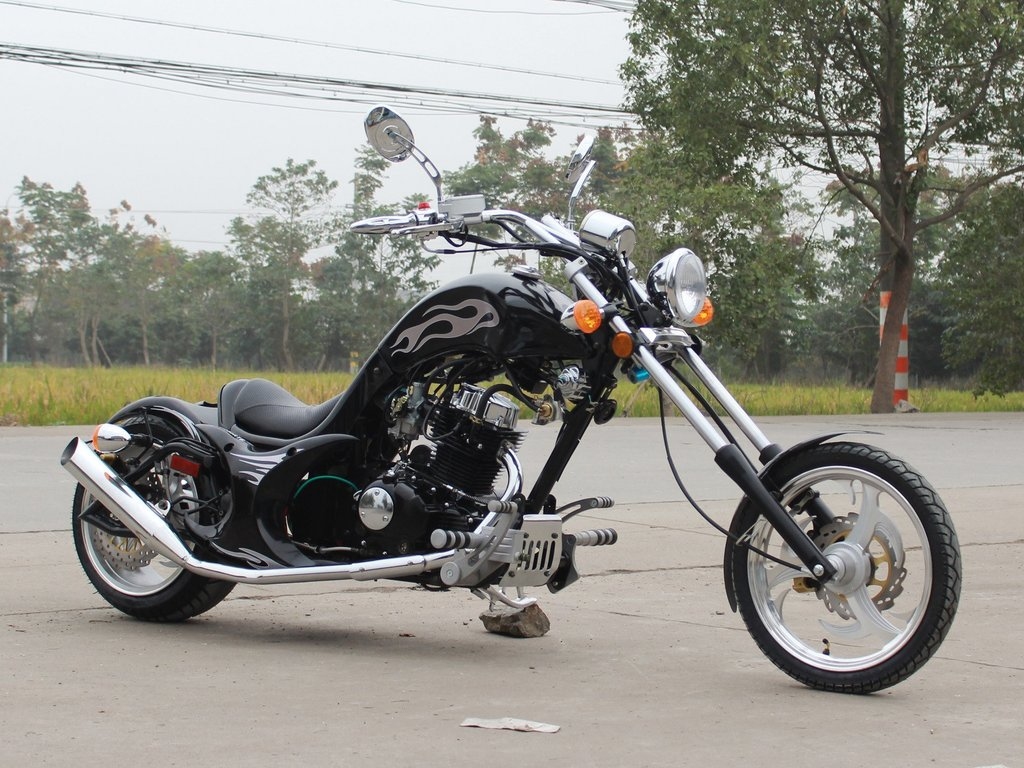motorbike: (54, 123, 975, 708)
